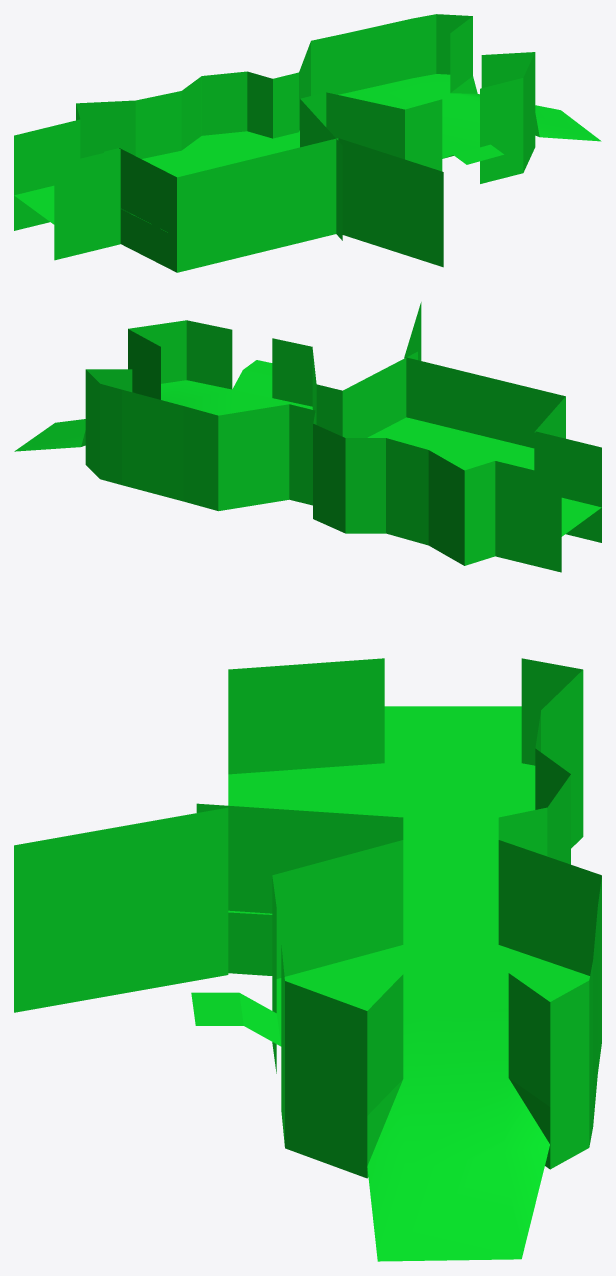
Rendered from NEW HUB_Colliders.fbx.
3 renders of one model, top to bottom at view 1: azimuth 30°, elevation 25°; view 2: azimuth 150°, elevation 25°; view 3: azimuth 270°, elevation 25°, orthographic. The views are drawn at different scales.
Parts seen in each view (by area): view 1: HUB_Collider_NoFall, HUB_Collider_Wall, HUB_Collider_Ground; view 2: HUB_Collider_NoFall, HUB_Collider_Wall, HUB_Collider_Ground; view 3: HUB_Collider_Ground, HUB_Collider_NoFall, HUB_Collider_Wall.
Boxes of the visible parts, x1,y1,x2,y2 form: HUB_Collider_NoFall: (14,14,535,260); HUB_Collider_Wall: (104,138,443,272); HUB_Collider_Ground: (14,74,601,232); HUB_Collider_NoFall: (85,320,601,572); HUB_Collider_Wall: (404,302,565,473); HUB_Collider_Ground: (14,360,601,536); HUB_Collider_Ground: (191,706,589,1261); HUB_Collider_NoFall: (196,658,601,1178); HUB_Collider_Wall: (14,658,384,1012).
Size of the model in its own units: 140 by 26.72 by 74.25.
